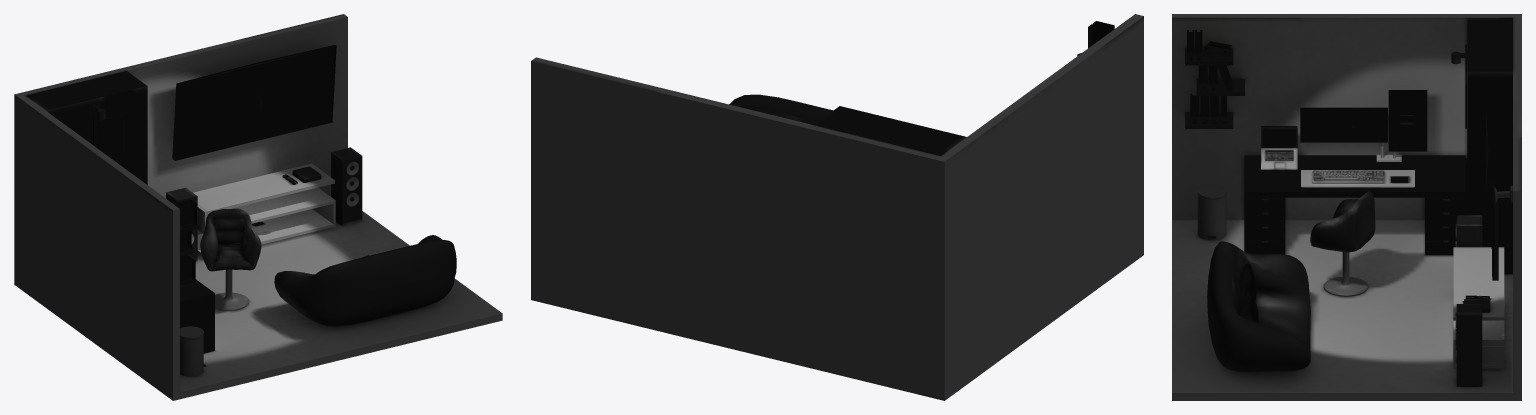
The model's file is my_room.glb.
The picture shows the model from 3 angles, left to right: view 1: azimuth 30°, elevation 25°; view 2: azimuth 150°, elevation 25°; view 3: azimuth 270°, elevation 25°; orthographic projection. The views are drawn at different scales.
Parts seen in each view (by area): view 1: WALL, TV, SOFA, TV_TABLE, CHAIR_FIX, SPEAKER_RIGHT, TABLE, GRABAGE, WALL_ALBUM2, SPEAKER_LEFT, BOOK_5, BOOK_1 (+1 smaller); view 2: WALL, SOFA; view 3: WALL, TABLE, SOFA, TV_TABLE, CHAIR_FIX, MONITOR_RIGHT, RIGHT_MONITOR, SPEAKER_RIGHT, NOTEBOOK, GRABAGE, TV, KEYBOARD_PAD (+10 smaller).
Boxes of the visible parts, x1,y1,x2,y2 form: WALL: (14,14,502,400); TV: (172,45,336,160); SOFA: (274,235,456,326); TV_TABLE: (193,163,335,255); CHAIR_FIX: (200,208,261,310); SPEAKER_RIGHT: (331,147,362,226); TABLE: (180,279,214,353); GRABAGE: (180,326,203,376); WALL_ALBUM2: (98,114,127,157); SPEAKER_LEFT: (166,187,197,261); BOOK_5: (176,199,196,228); BOOK_1: (180,255,195,285); WALL: (531,14,1143,400); SOFA: (729,94,833,124); WALL: (1172,14,1521,400); TABLE: (1244,155,1465,255); SOFA: (1207,241,1310,372); TV_TABLE: (1453,247,1504,368); CHAIR_FIX: (1310,191,1375,296); MONITOR_RIGHT: (1300,107,1387,142); RIGHT_MONITOR: (1388,90,1427,151); SPEAKER_RIGHT: (1455,304,1482,386); NOTEBOOK: (1261,126,1297,169); GRABAGE: (1197,185,1226,240); TV: (1486,108,1498,280); KEYBOARD_PAD: (1301,170,1414,187).
Bounding box in the file's own units: 23.97 × 13.24 × 20.
Materials: 65 (65 with a texture image).
